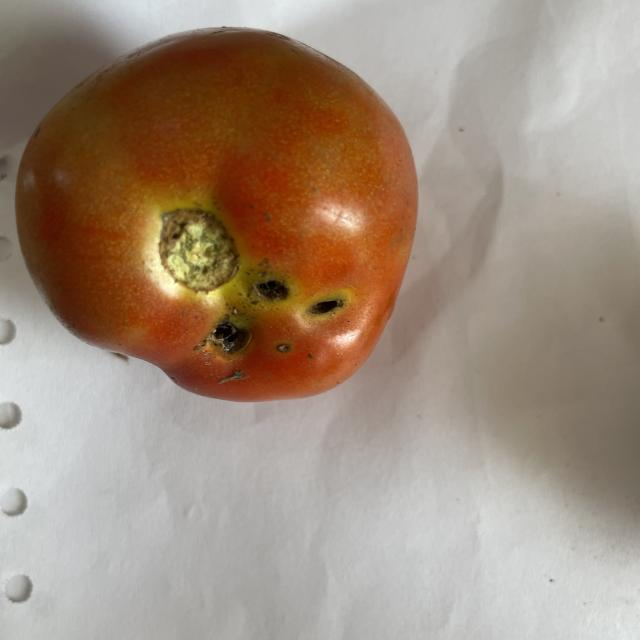fruitworm_bore: (202, 315, 256, 367), (302, 292, 358, 326), (253, 268, 295, 308)
